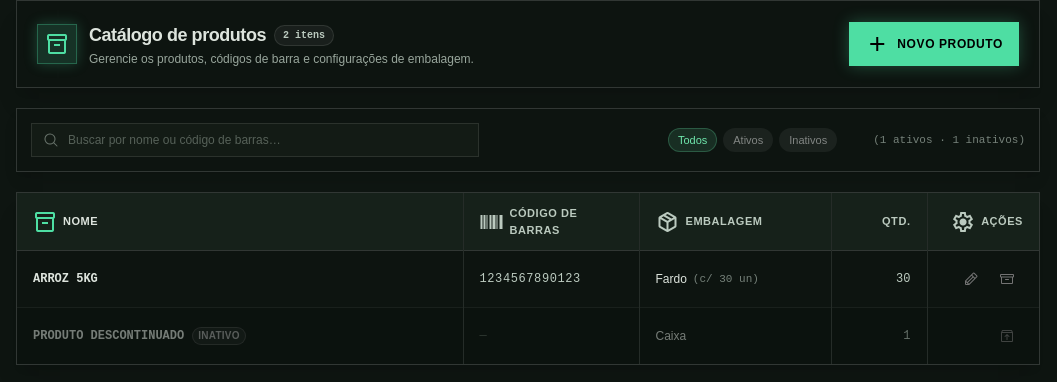
Test: produto inativo aparece apagado com "Ativar"; clicar reativa
Expected: the button "Produto Descontinuado" is shown, [33,328,184,344]
Click the button named "Ativar" at (1007, 336), box [991,320,1023,352]
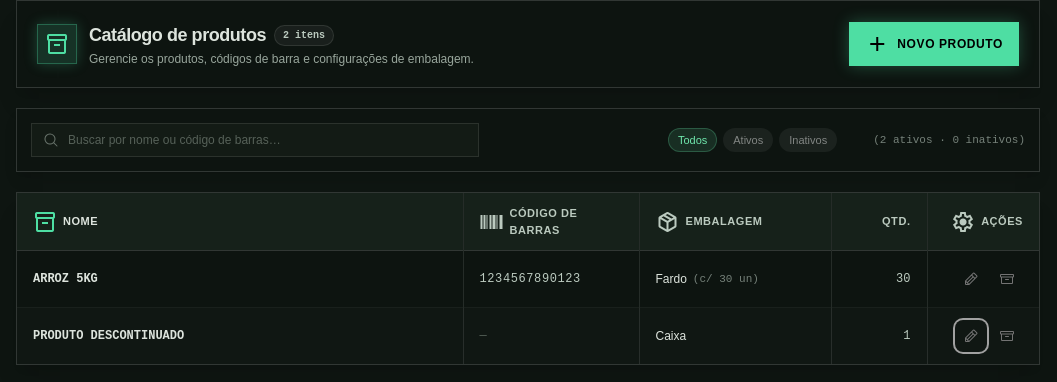
Now the number of buttons named "Inativar" is 2, box [991,263,1023,295]; [991,320,1023,352]
